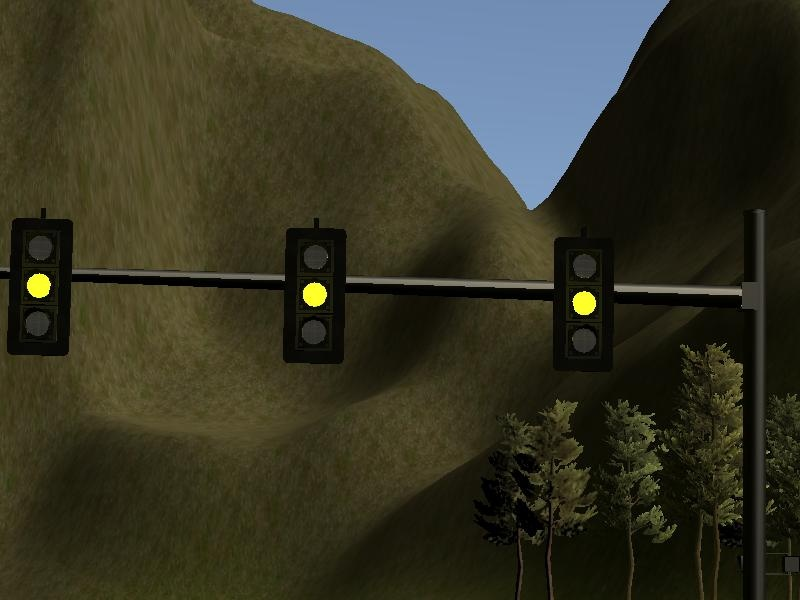YELLOW: (7, 215, 76, 361), (550, 232, 616, 374), (283, 224, 349, 366)
